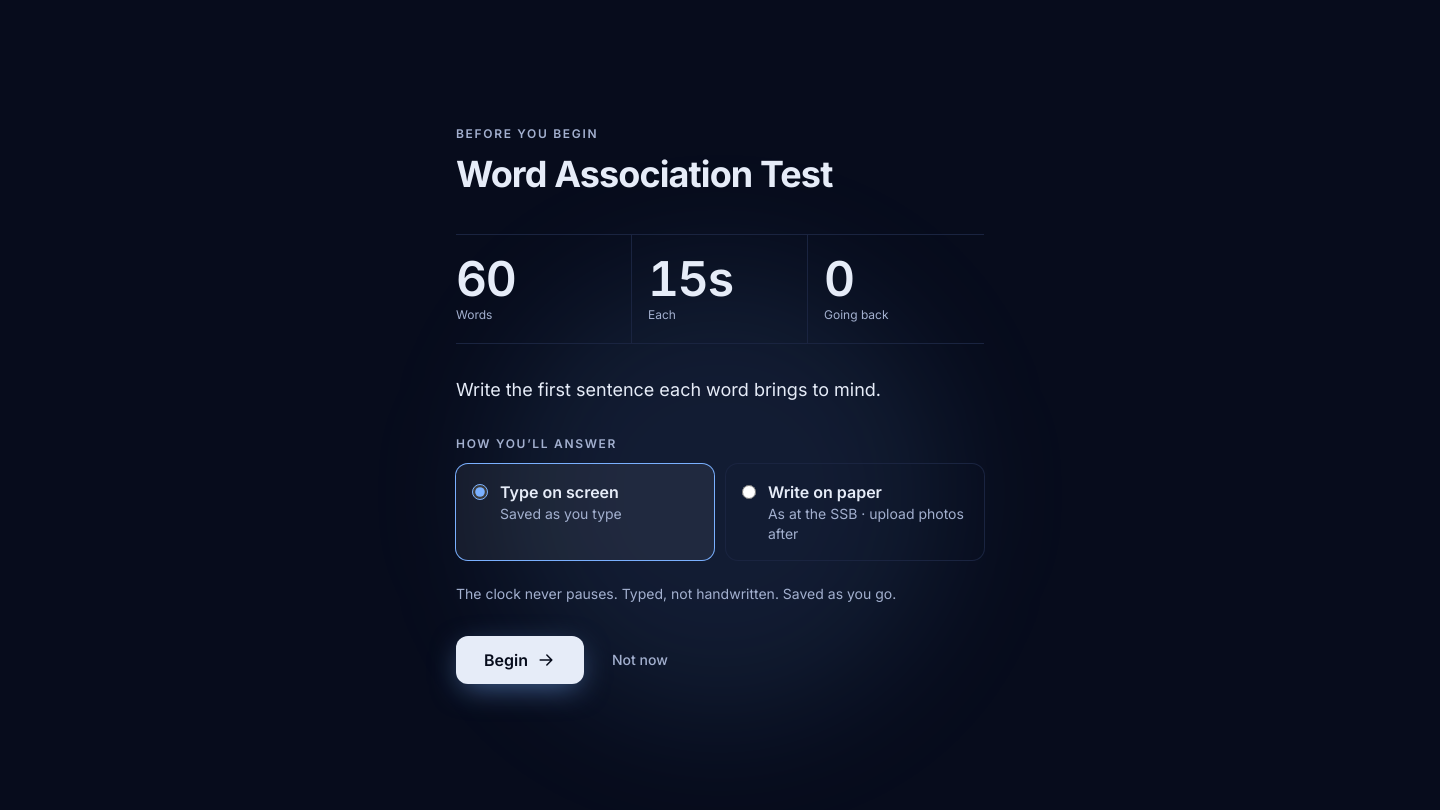
forced sequence › shows the first word once begun
Click the button "Begin": (520, 660) [456, 636, 584, 684]
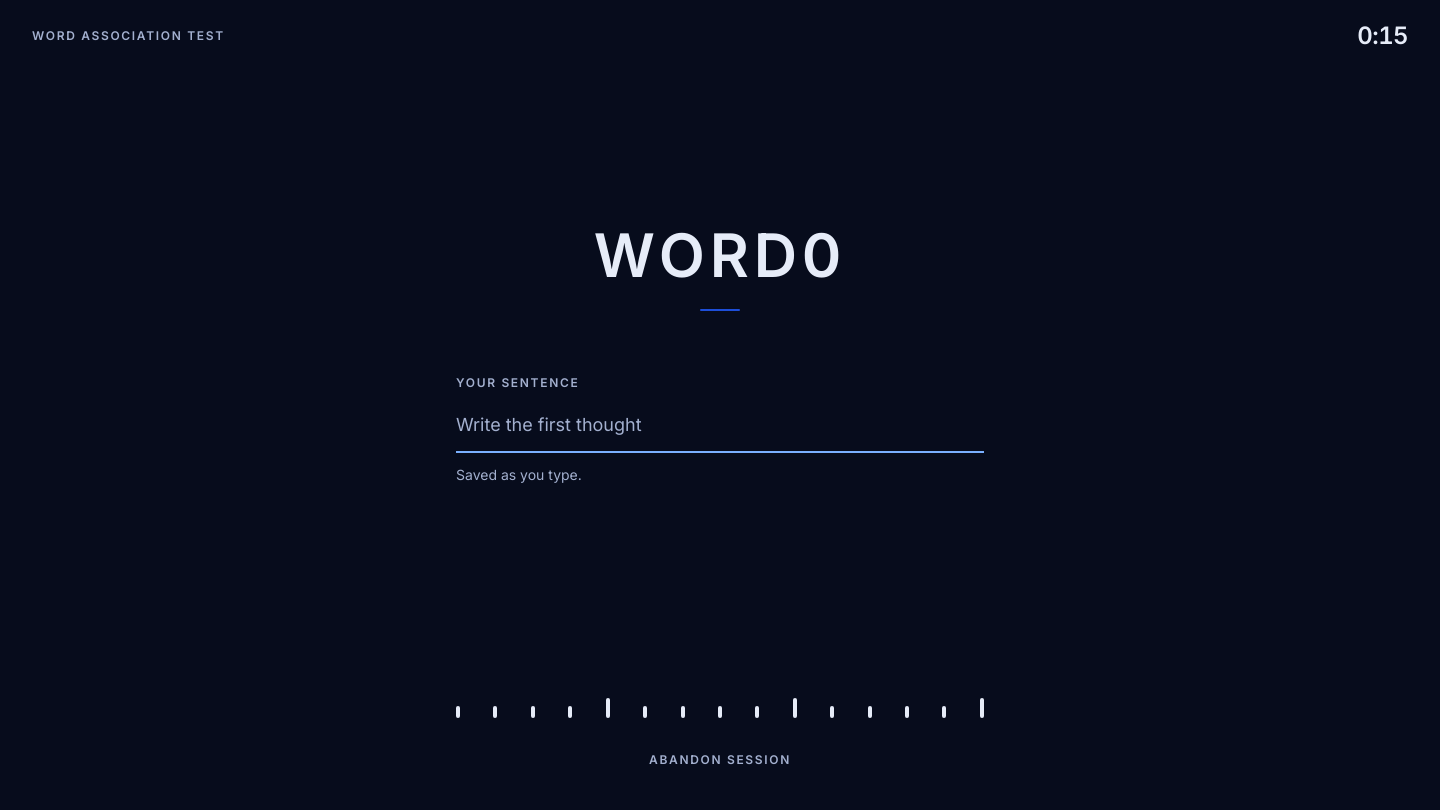
Expected: the text "WORD0" is shown, [594, 219, 846, 291]
